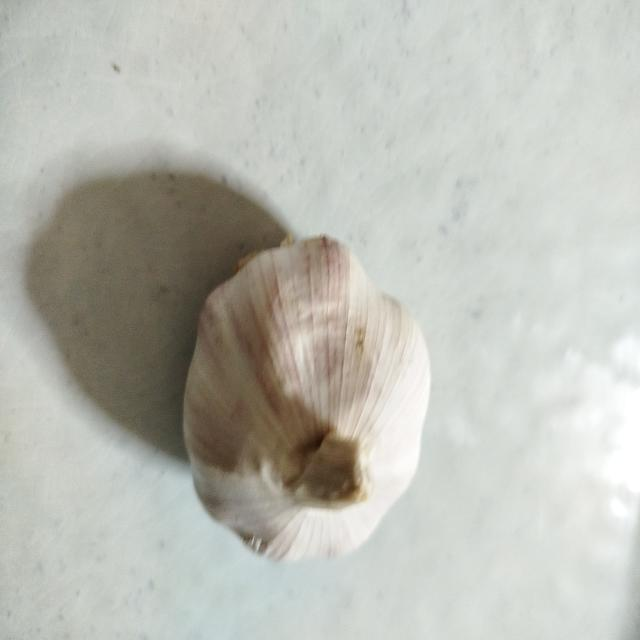garlic: (182, 232, 432, 563)
